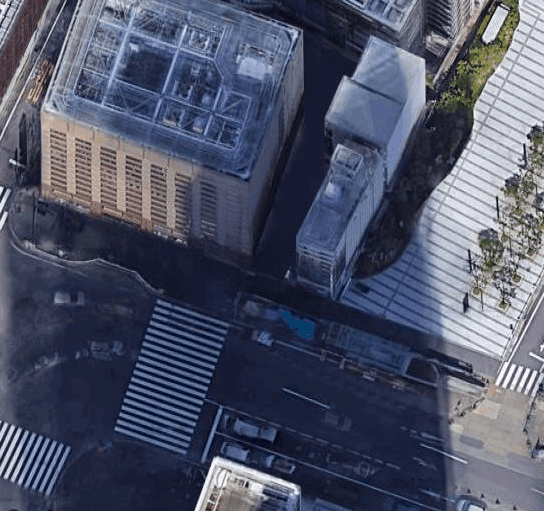facility: (40, 0, 290, 184)
flatroof: (322, 30, 429, 151)
rooftop: (294, 133, 384, 261)
